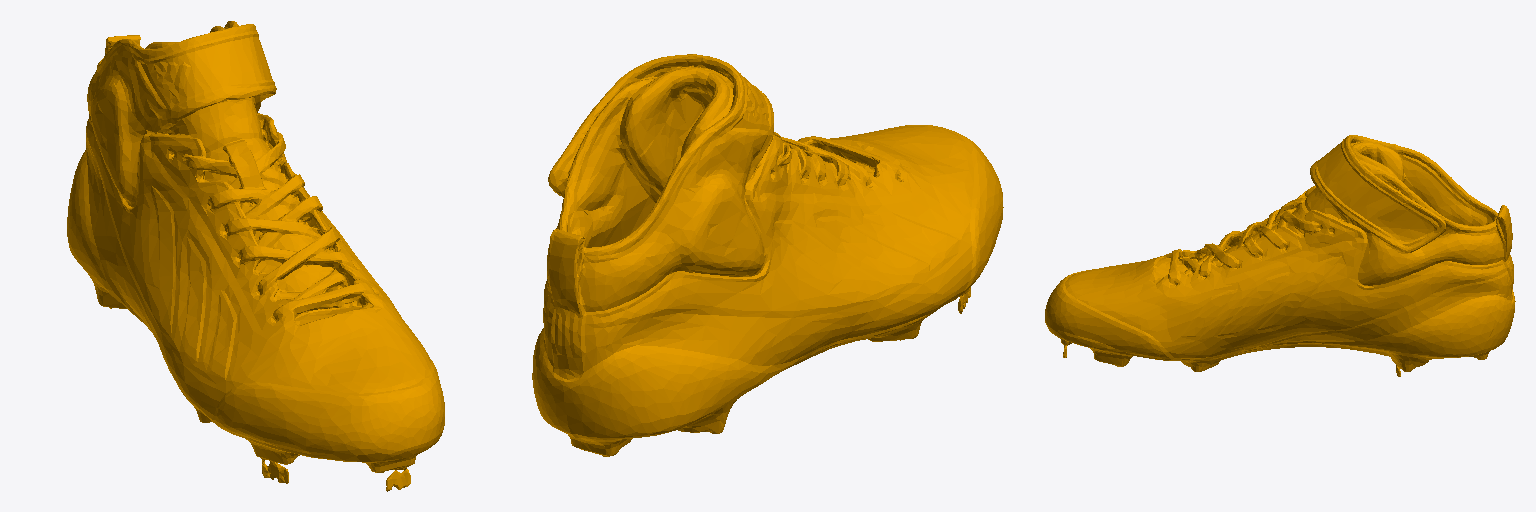
The robot description file, URDF, robot "22m5hug5":
<?xml version='1.0'?>

<robot name="22m5hug5">
    <static>false</static>
    <link name="link">
        <inertial>
            <mass value="0.09965325853427807"/>
            <inertia ixx="0.00013967434882083453" ixy="-8.288773305015736e-06" ixz="-3.243046199346702e-06"
                     iyy="3.68100394523372e-05" iyz="-2.0240792037230336e-05" izz="0.00012829180131191154"/>
        </inertial>
        <collision name="collision">
            <geometry>
                <mesh filename="package://miscnet/train/22m5hug5/collision_model_vhacd.obj"/>
            </geometry>
        </collision>
        <visual name="visual">
            <geometry>
                <mesh filename="package://miscnet/train/22m5hug5/visual_model.obj"/>
            </geometry>
        </visual>
    </link>
</robot>

--- What the picture shows (computed from the rendered views, not written in the file) ---
3 views of the same robot in one strip: view 1: azimuth 30°, elevation 25°; view 2: azimuth 150°, elevation 25°; view 3: azimuth 270°, elevation 25° (orthographic).
Robot: 22m5hug5 — 1 links, 0 joints (none); root link link; default pose: every joint at zero.
Links seen in each view (by area): view 1: link; view 2: link; view 3: link.
Boxes of the visible links, <box> form: link: <box>67,21,444,491</box>; link: <box>532,54,1003,456</box>; link: <box>1045,135,1515,376</box>.
Bounding box of the posed robot: 0.0485 × 0.1392 × 0.0741 m (x, y, z).
1 mesh visuals loaded from 1 distinct referenced files (1 OBJ).
